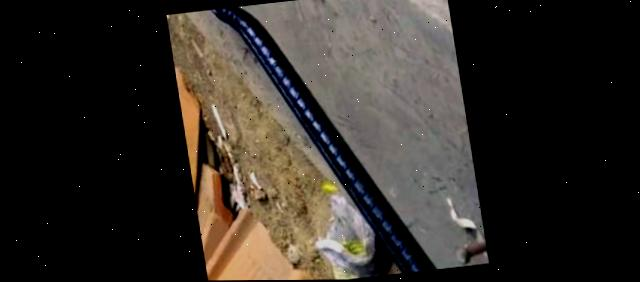crow bar: (207, 6, 433, 273)
